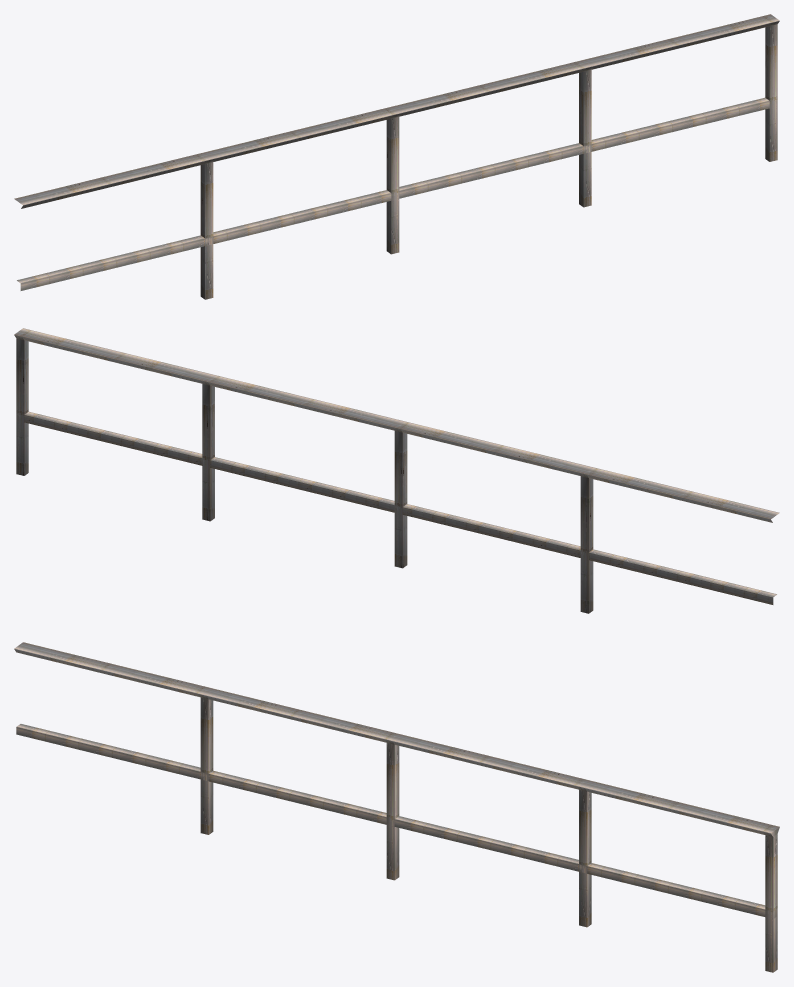
The model's file is M11B_Railling05_A.glb.
3 renders of one model, top to bottom at view 1: azimuth 30°, elevation 25°; view 2: azimuth 150°, elevation 25°; view 3: azimuth 330°, elevation 25°, orthographic.
Visible parts, largest first — view 1: M11B_RAILLING05_A; view 2: M11B_RAILLING05_A; view 3: M11B_RAILLING05_A.
Part boxes in pixels (x1,y1,x2,y2): M11B_RAILLING05_A: [14, 14, 779, 299]; M11B_RAILLING05_A: [14, 328, 779, 613]; M11B_RAILLING05_A: [14, 642, 779, 972].
Size of the model in its own units: 5.94 by 1.06 by 0.124.
1 material, 1 textured.
